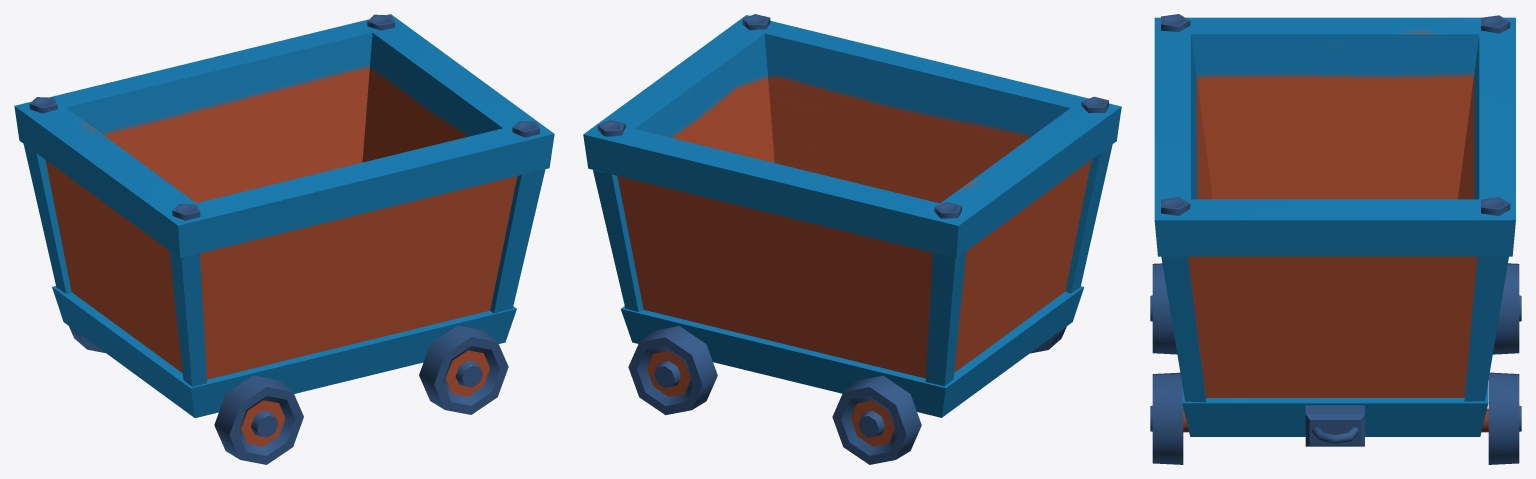
The model's file is Minecart.fbx.
3 renders of one model, left to right at view 1: azimuth 30°, elevation 25°; view 2: azimuth 150°, elevation 25°; view 3: azimuth 270°, elevation 25°, orthographic. The views are drawn at different scales.
Visible parts, largest first — view 1: Minecart; view 2: Minecart; view 3: Minecart.
Part boxes in pixels (bbox=[...]): Minecart: bbox=[14, 14, 554, 464]; Minecart: bbox=[583, 14, 1121, 464]; Minecart: bbox=[1150, 14, 1521, 464].
Bounding box in the file's own units: 162 × 106 × 121.
Materials: 1 (1 with a texture image).
